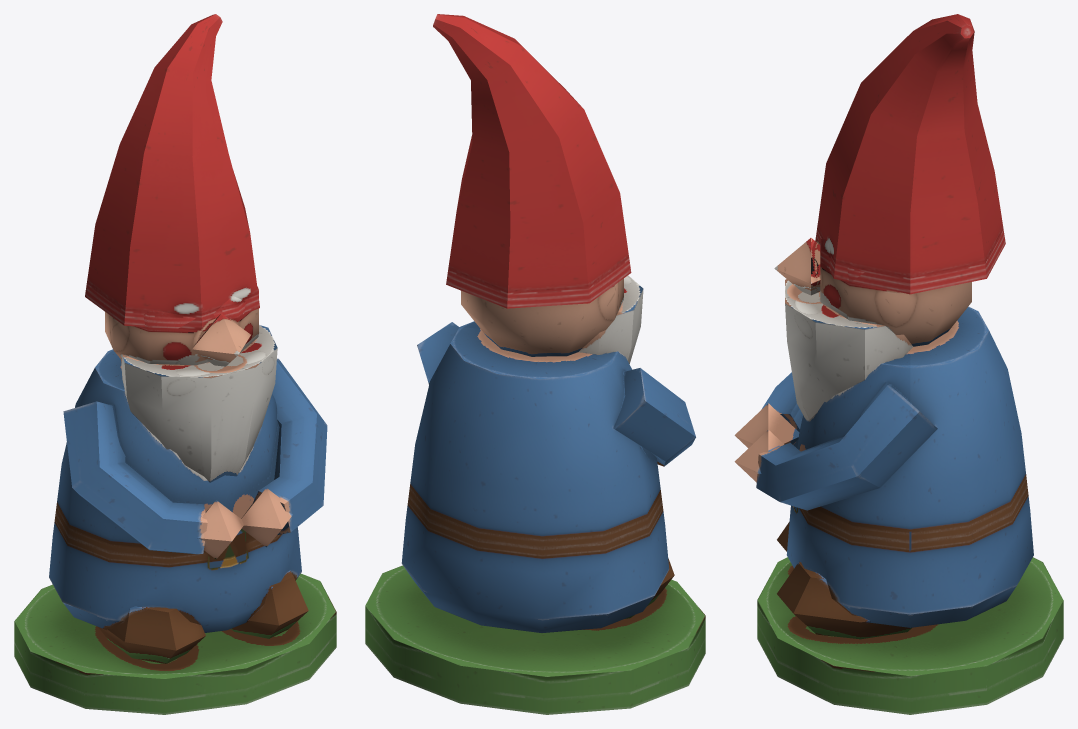
File: Gnome_01.fbx
3 views of the same model, side by side, from view 1: azimuth 30°, elevation 25°; view 2: azimuth 150°, elevation 25°; view 3: azimuth 270°, elevation 25° (orthographic). The views are drawn at different scales.
Visible parts, largest first — view 1: Gnome_01; view 2: Gnome_01; view 3: Gnome_01.
Boxes of the visible parts, bbox=[...] form: Gnome_01: bbox=[14, 14, 336, 714]; Gnome_01: bbox=[365, 14, 705, 714]; Gnome_01: bbox=[734, 14, 1063, 714].
Size of the model in its own units: 0.254 by 0.5048 by 0.2319.
1 material, 1 textured.
